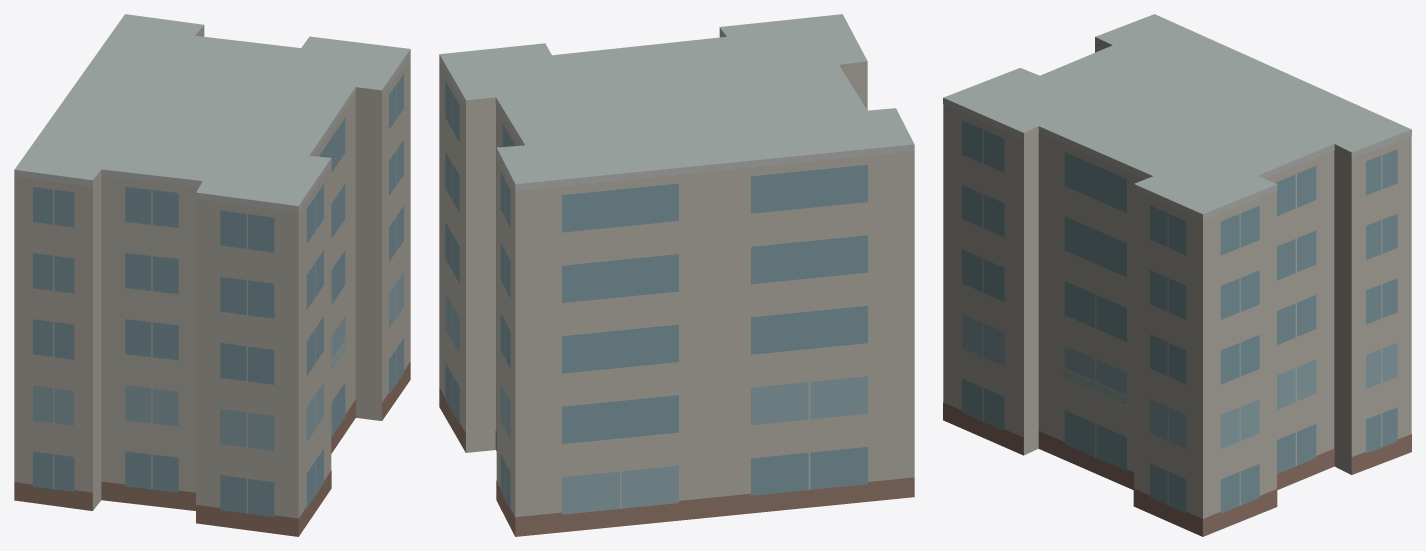
File: survey-upis-32578245.glb
The picture shows the model from 3 angles, left to right: view 1: azimuth 30°, elevation 25°; view 2: azimuth 150°, elevation 25°; view 3: azimuth 270°, elevation 25°; orthographic projection. The views are drawn at different scales.
Parts seen in each view (by area): view 1: survey-upis-32578245.tmp; view 2: survey-upis-32578245.tmp; view 3: survey-upis-32578245.tmp.
Part boxes in pixels (x1=…): survey-upis-32578245.tmp: x1=14, y1=14, x2=410, y2=536; survey-upis-32578245.tmp: x1=439, y1=14, x2=914, y2=536; survey-upis-32578245.tmp: x1=943, y1=14, x2=1411, y2=536.
Size of the model in its own units: 16.52 by 12.4 by 16.34.
